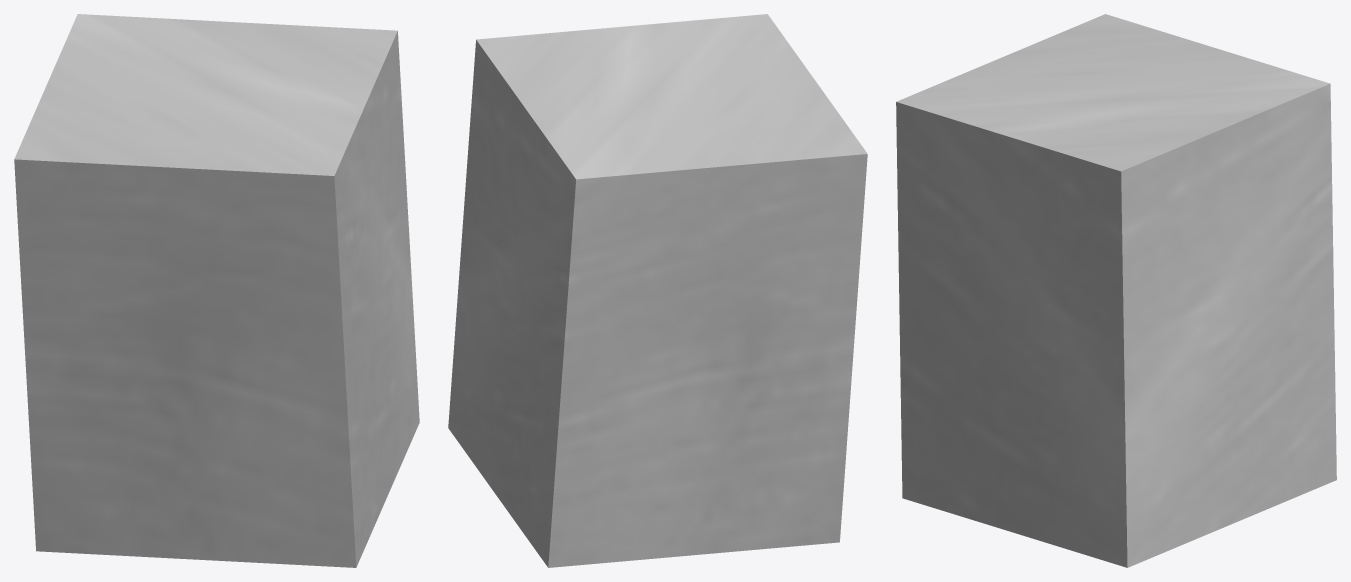
Rendered from blanc7.FBX.
The picture shows the model from 3 angles, left to right: view 1: azimuth 30°, elevation 25°; view 2: azimuth 150°, elevation 25°; view 3: azimuth 270°, elevation 25°; orthographic projection. The views are drawn at different scales.
Visible parts, largest first — view 1: Boîte061; view 2: Boîte061; view 3: Boîte061.
Part boxes in pixels (left/top/right/bottom): Boîte061: left=14, top=14, right=419, bottom=567; Boîte061: left=448, top=14, right=867, bottom=567; Boîte061: left=896, top=14, right=1336, bottom=567.
Size of the model in its own units: 3.29 by 3.23 by 3.14.
Materials: 1 (1 with a texture image).
